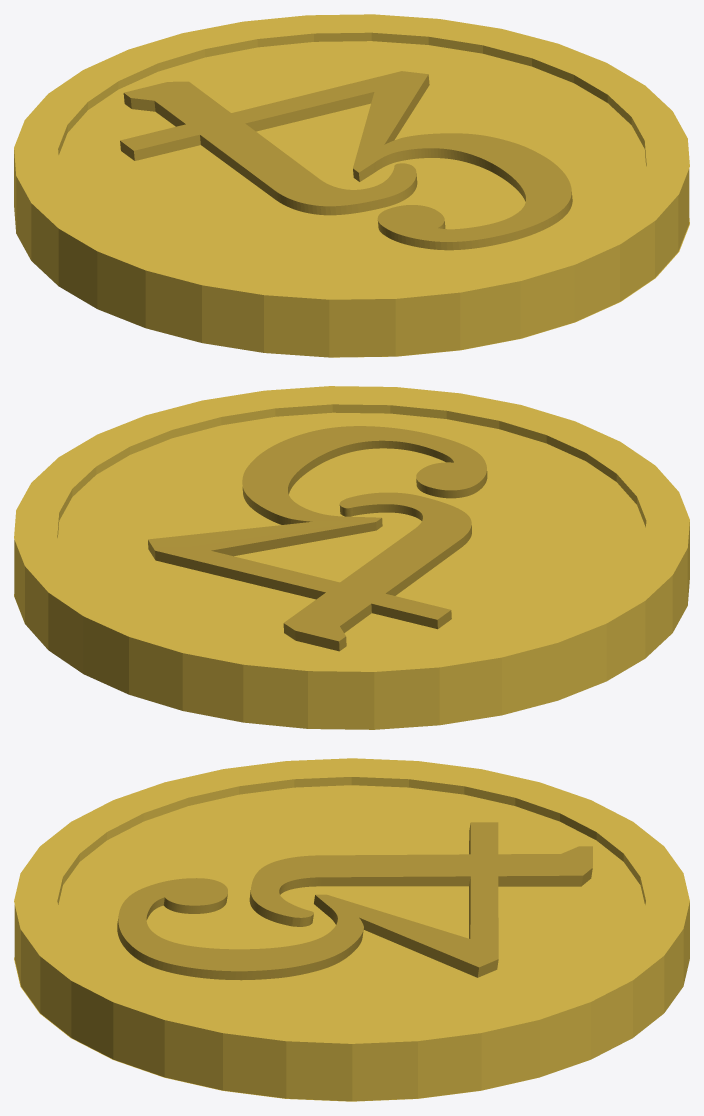
The model's file is gold_tezos_coin.glb.
3 renders of one model, top to bottom at view 1: azimuth 30°, elevation 25°; view 2: azimuth 150°, elevation 25°; view 3: azimuth 270°, elevation 25°, orthographic.
Parts seen in each view (by area): view 1: Cylinder, Curve; view 2: Cylinder, Curve; view 3: Cylinder, Curve.
Part boxes in pixels (<box>): Cylinder: <box>14,14,689,357</box>; Curve: <box>120,71,572,250</box>; Cylinder: <box>14,386,689,729</box>; Curve: <box>148,426,487,651</box>; Cylinder: <box>14,758,689,1101</box>; Curve: <box>117,822,592,980</box>.
Bounding box in the file's own units: 2.01 × 0.1973 × 2.01.
